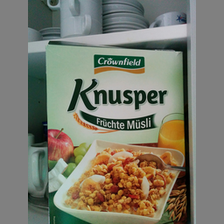cereal: (45, 43, 191, 224)
